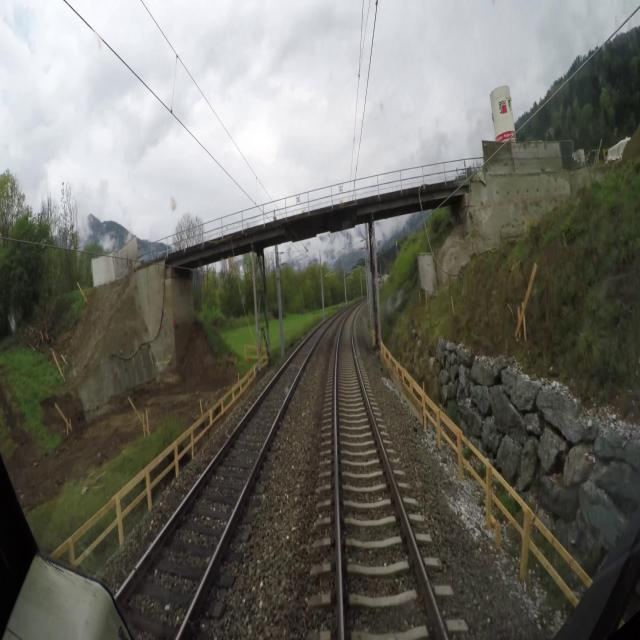rail-track: (118, 319, 331, 639)
